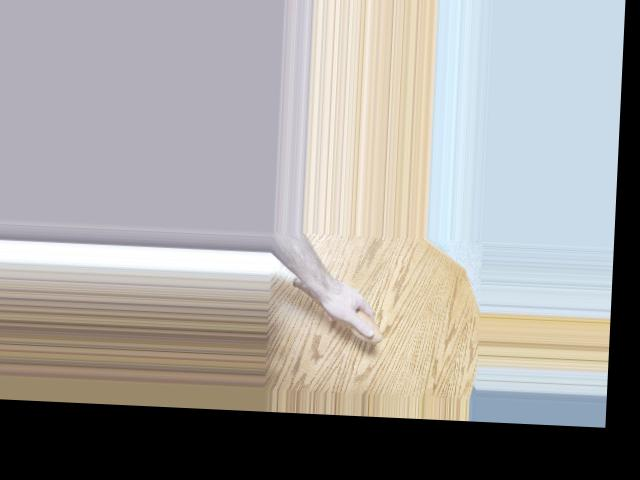sweet_potato: (287, 272, 386, 343)
